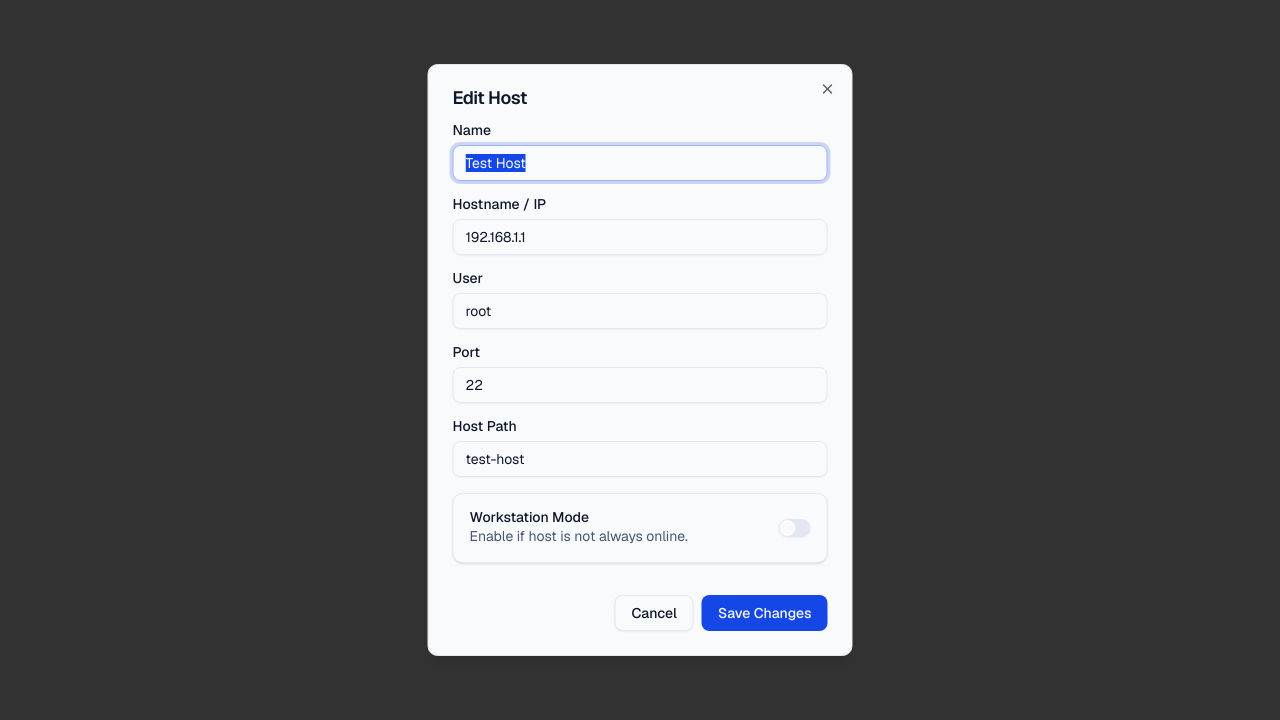
Scenario: EditHostDialog › shows validation errors for empty fields
// Clear the name field
Step 1. Clear the field labelled "Name" → (640, 163), box x1=452 y1=145 x2=828 y2=181
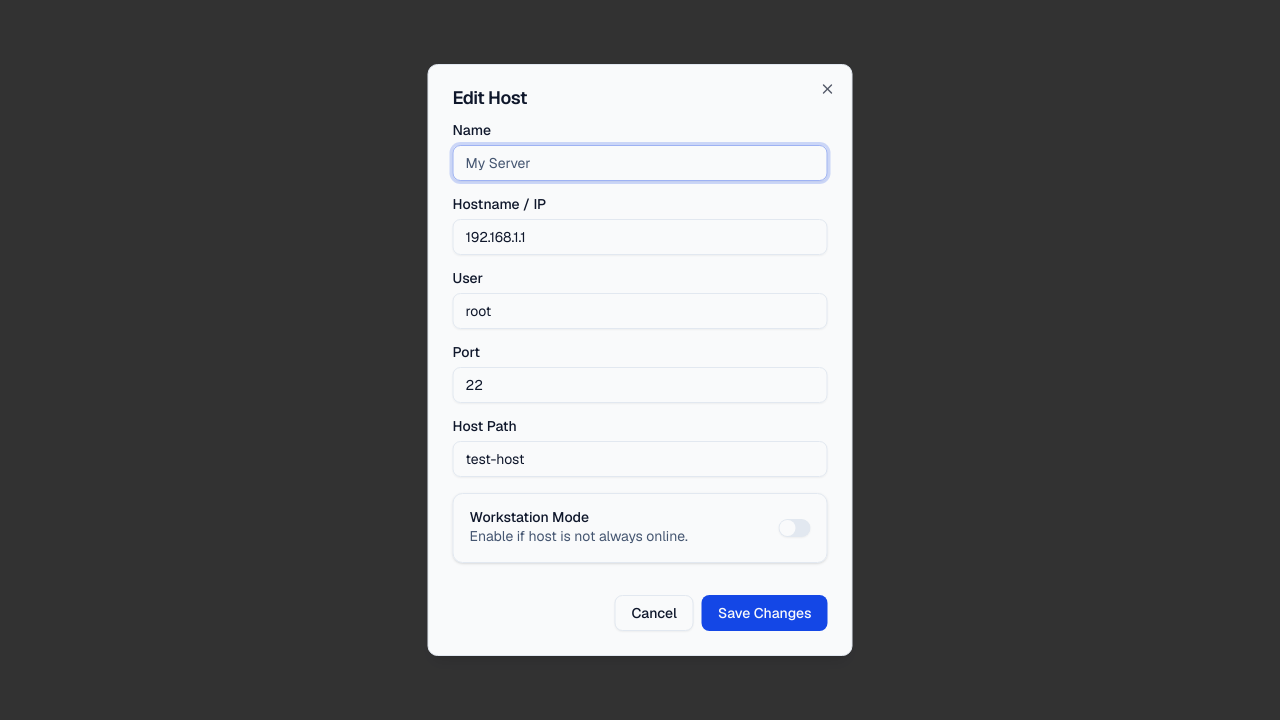
Step 2. Click the button "Save Changes" → (765, 613), box x1=702 y1=595 x2=828 y2=631
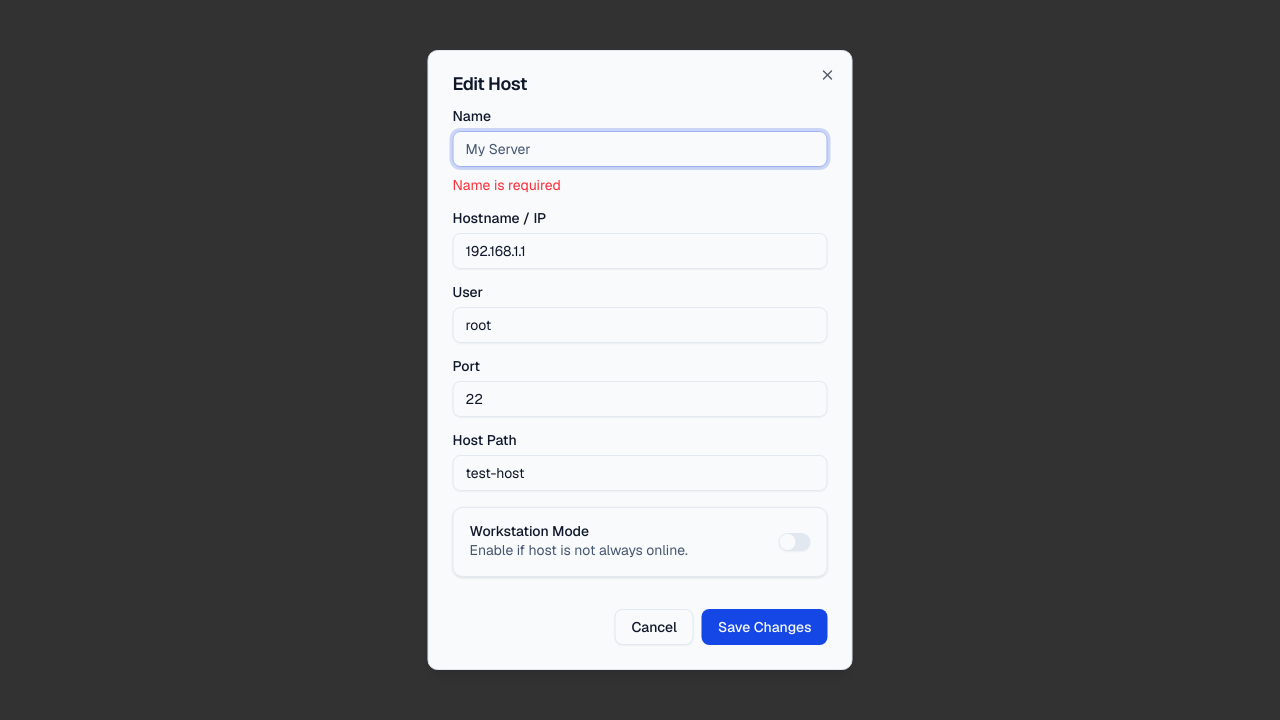
Expected: the text "Name is required" is shown, x1=452 y1=176 x2=561 y2=194
